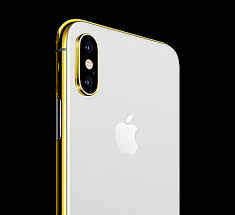apple: (109, 111, 152, 159)
